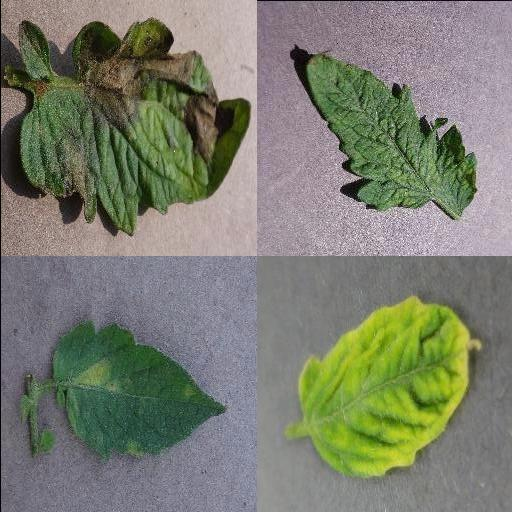Late Blight: (15, 18, 251, 238)
Leaf Mold: (49, 322, 229, 463)
Mosaic Virus: (306, 50, 478, 214)
Yellow Leaf Curl Virus: (296, 295, 482, 479)
